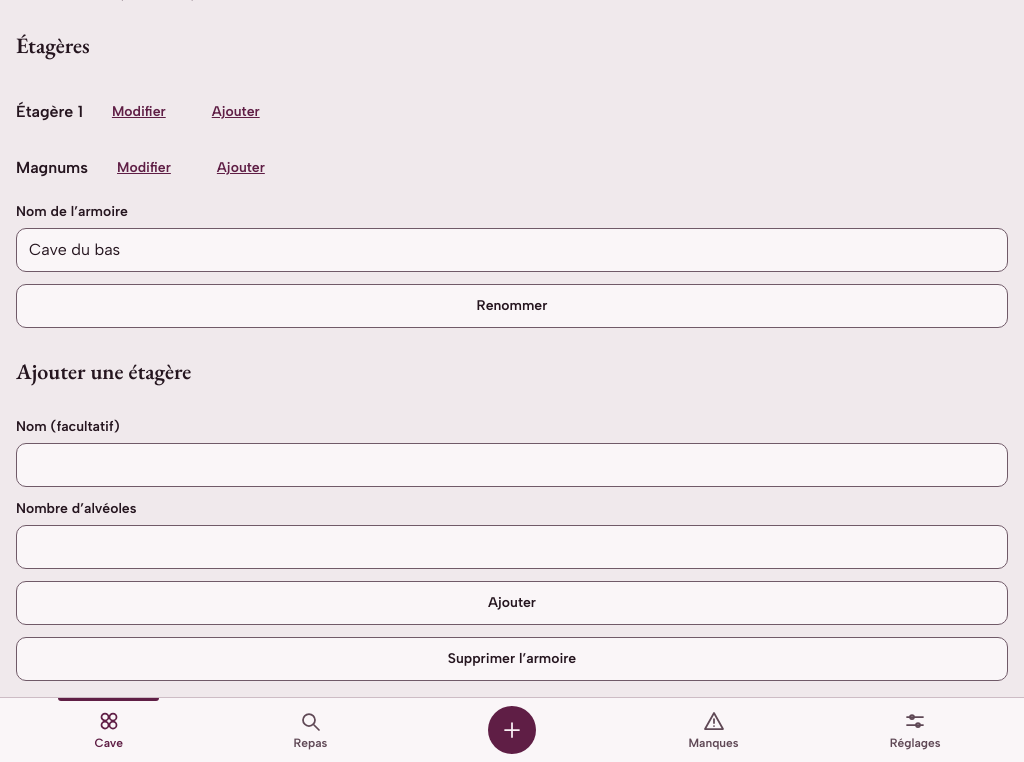
Test case: Armoire : vue visuelle et modification › supprimer : Annuler ferme la feuille sans rien envoyer
(page scrolled)
Click the button "Supprimer l’armoire": (512, 658) [16,636,1008,680]
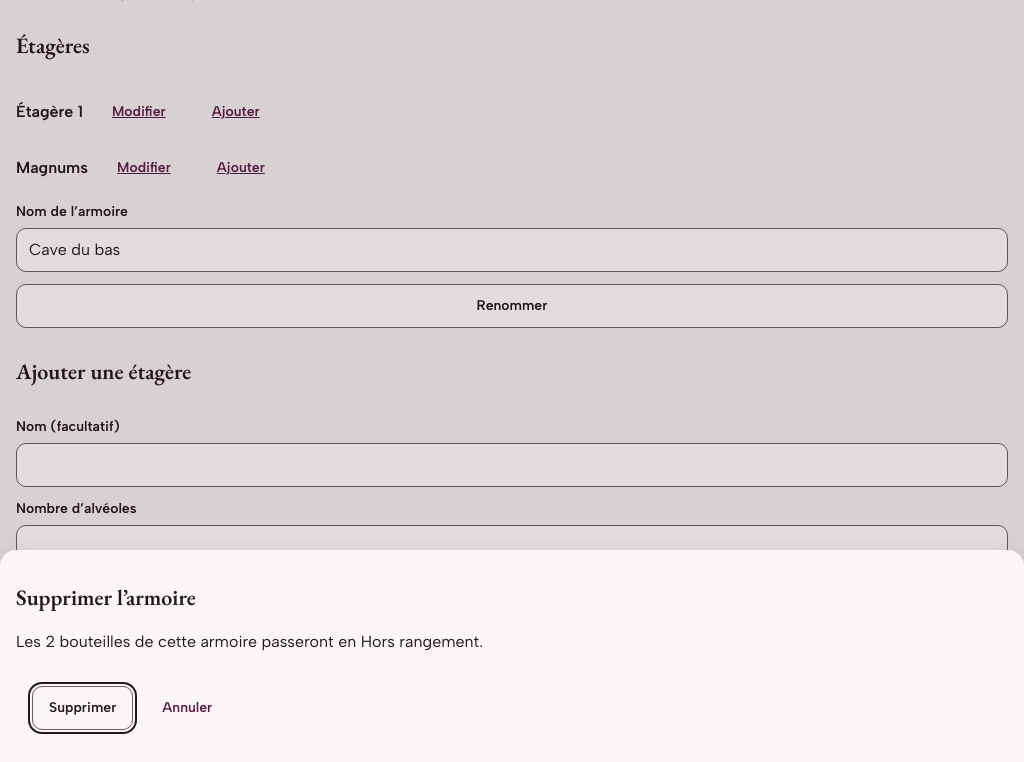
Click the button "Annuler": (187, 708) [145,686,229,730]
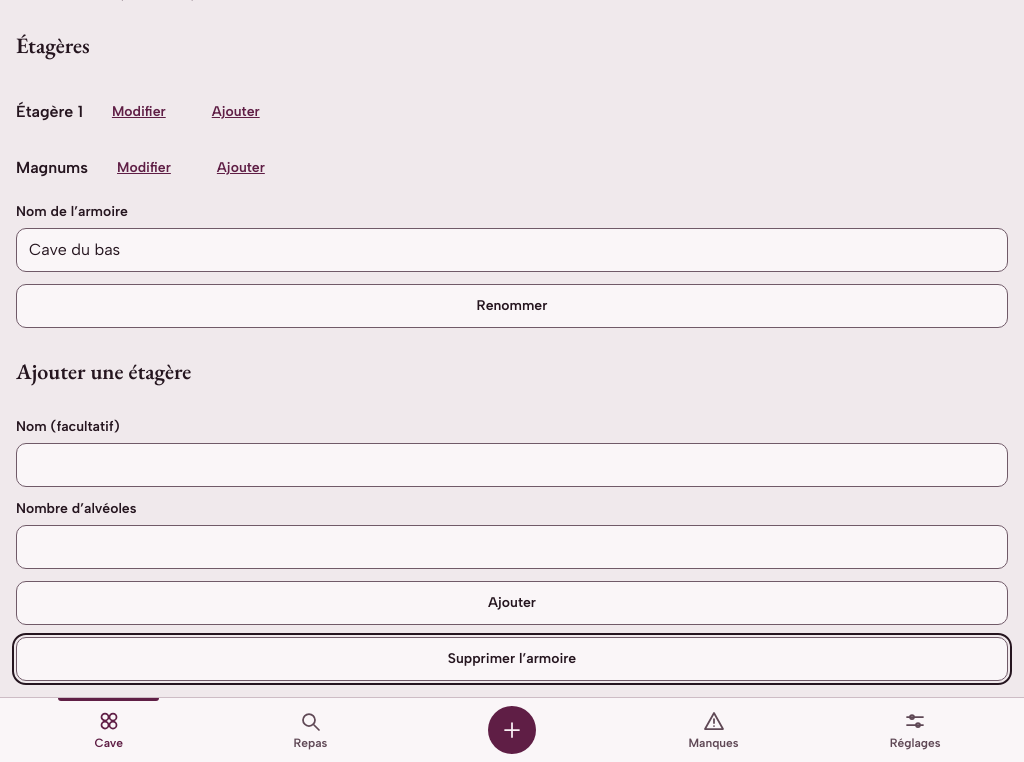
Expected: the dialog is gone
